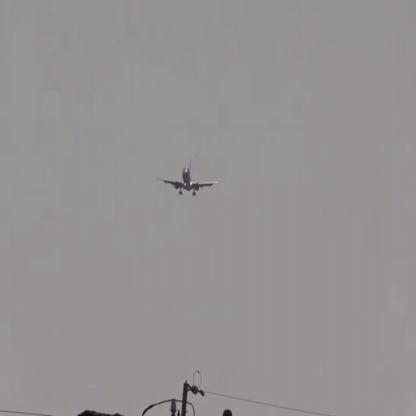CIV_Plane: (157, 159, 221, 195)
